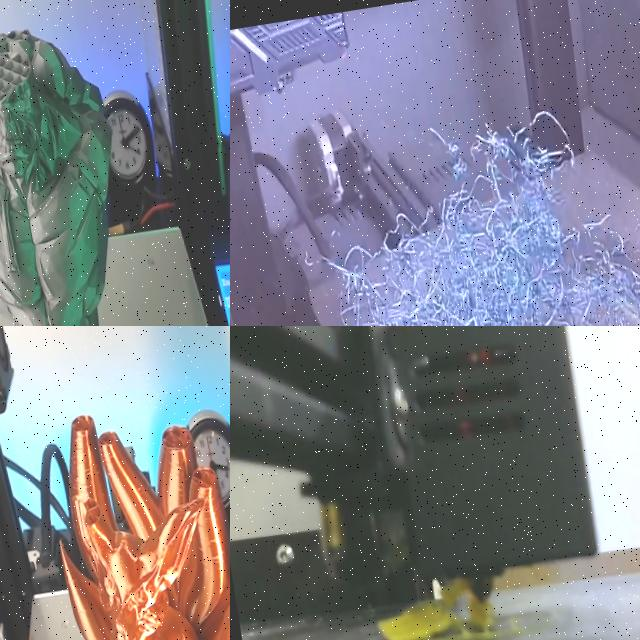spaghetti: (230, 80, 640, 326), (378, 577, 494, 640)
